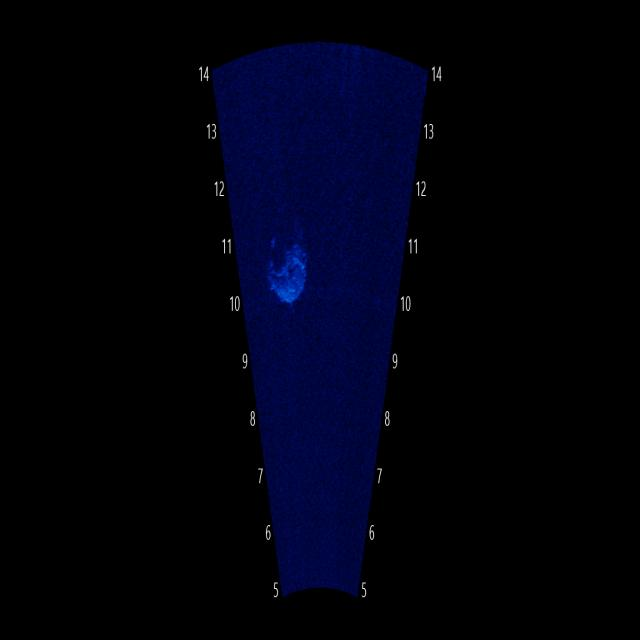circle: (258, 203, 325, 316)
